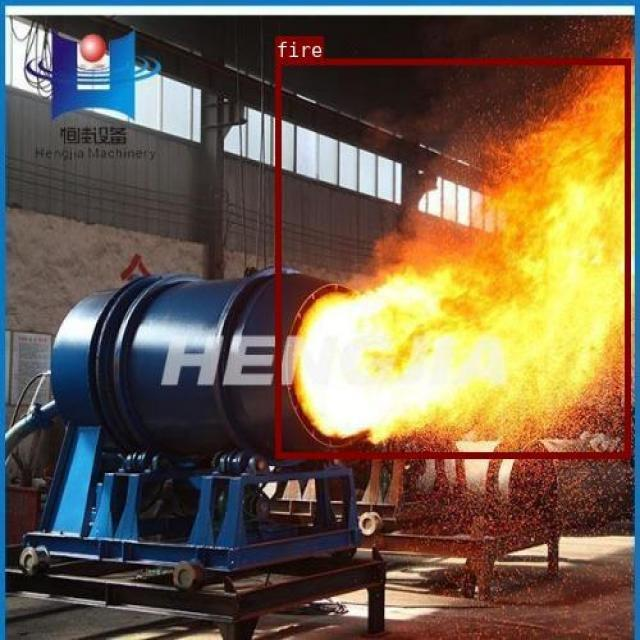fire: (275, 58, 629, 458)
